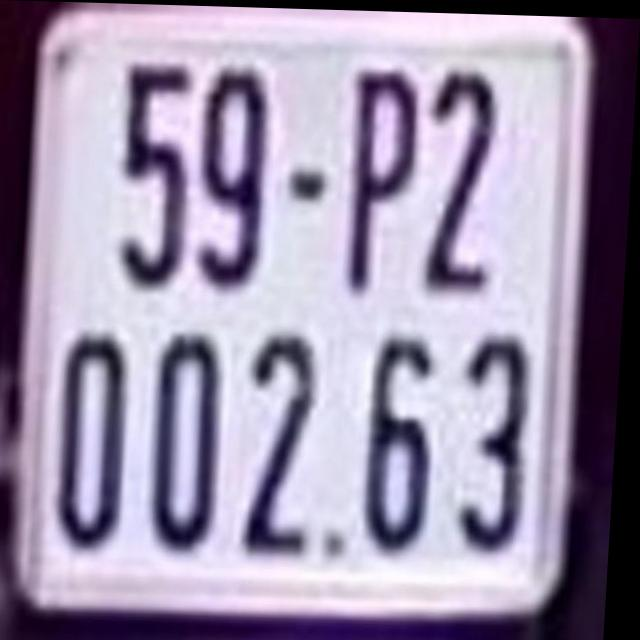0: (151, 332, 237, 552), (61, 332, 139, 545)
2: (422, 59, 506, 285), (249, 326, 324, 555)
3: (462, 325, 537, 556)
5: (114, 56, 194, 281)
6: (362, 324, 442, 554)
9: (198, 57, 277, 289)
P: (347, 61, 423, 292)
